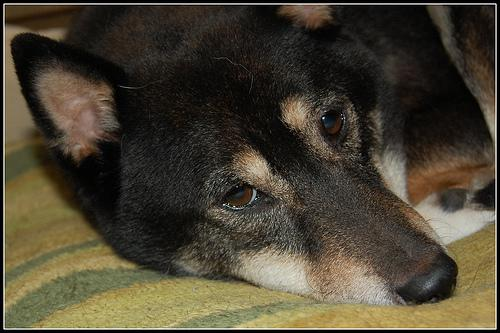dog-shiba_inu: (9, 4, 456, 304)
